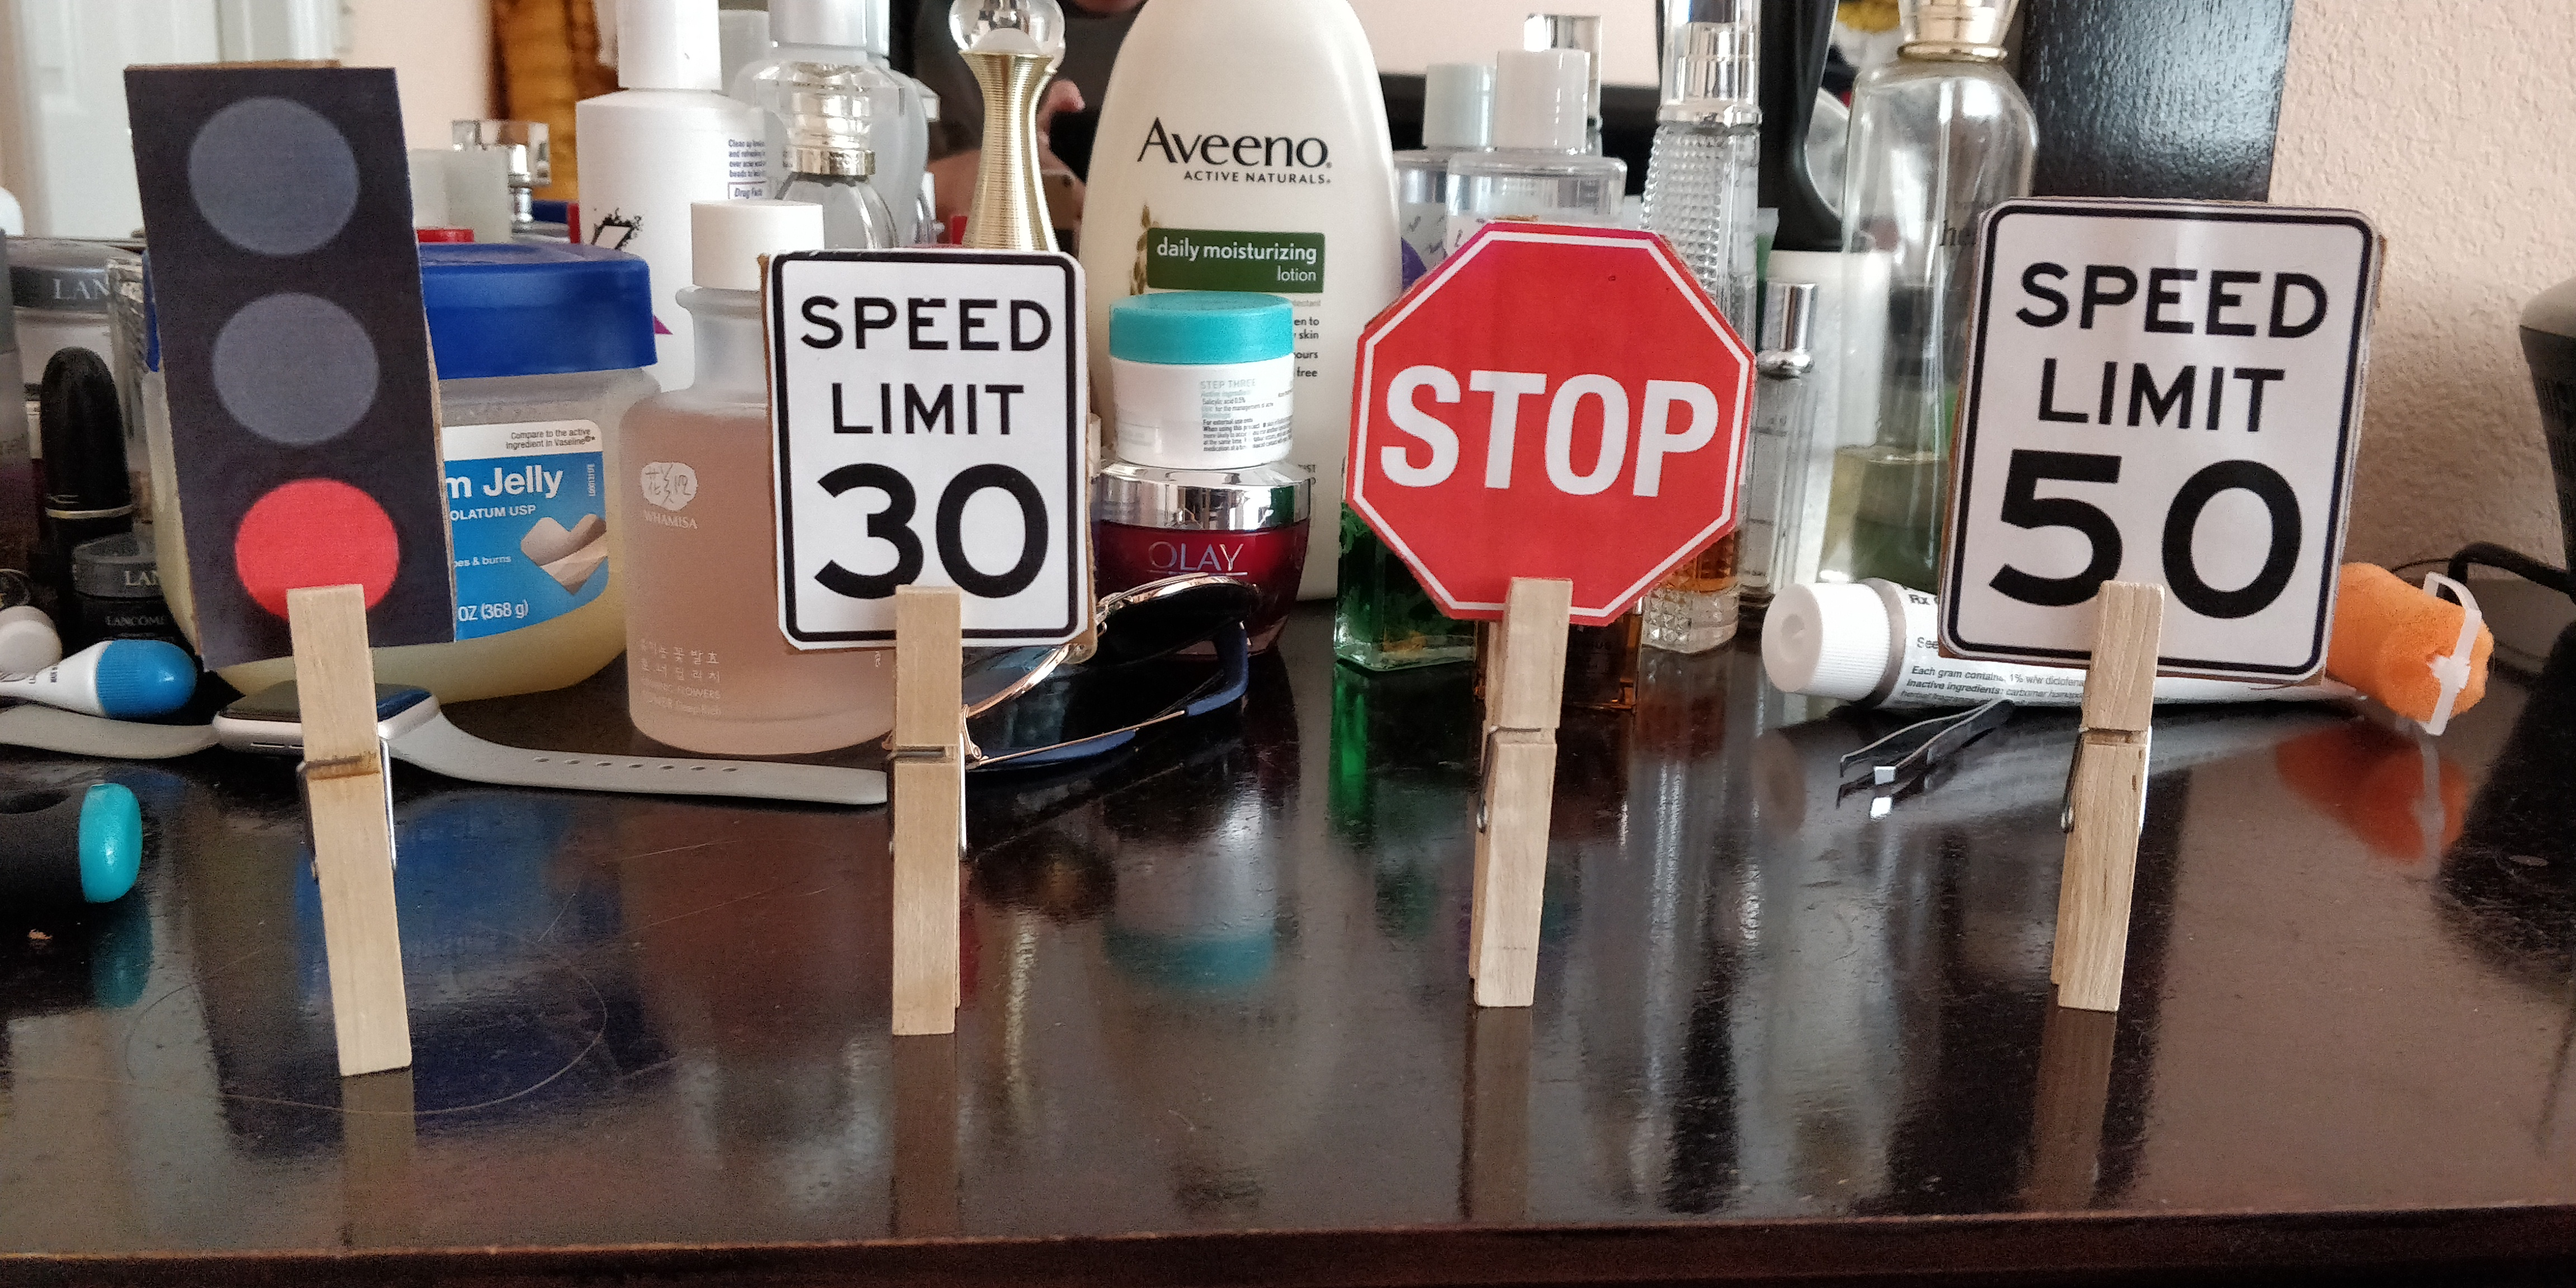Speed Limit 30: (761, 248, 1091, 652)
Speed Limit 50: (1937, 197, 2390, 683)
Stop Sign: (1344, 222, 1755, 624)
red light: (122, 62, 458, 667)
